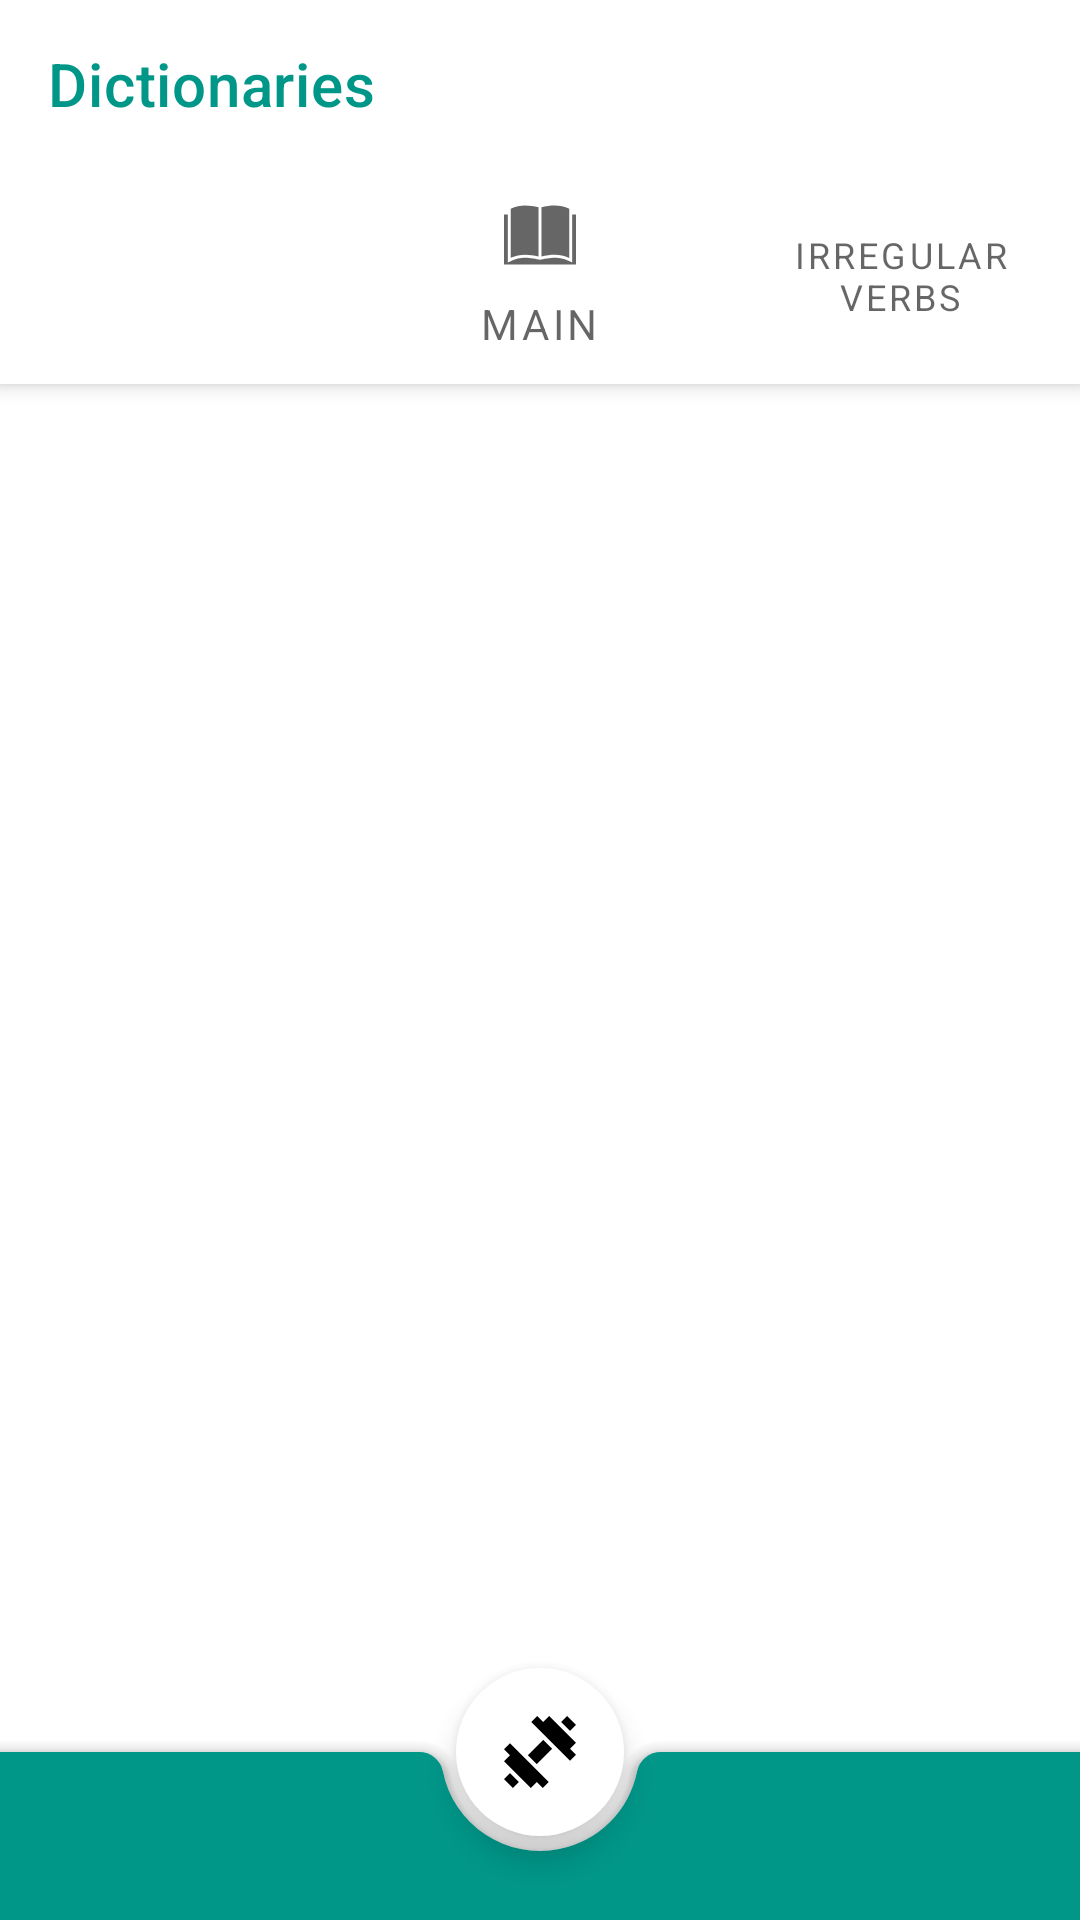

Where to tap for icons on this 1080*1920 app screen, as (x,y):
gym: (540,1752)
